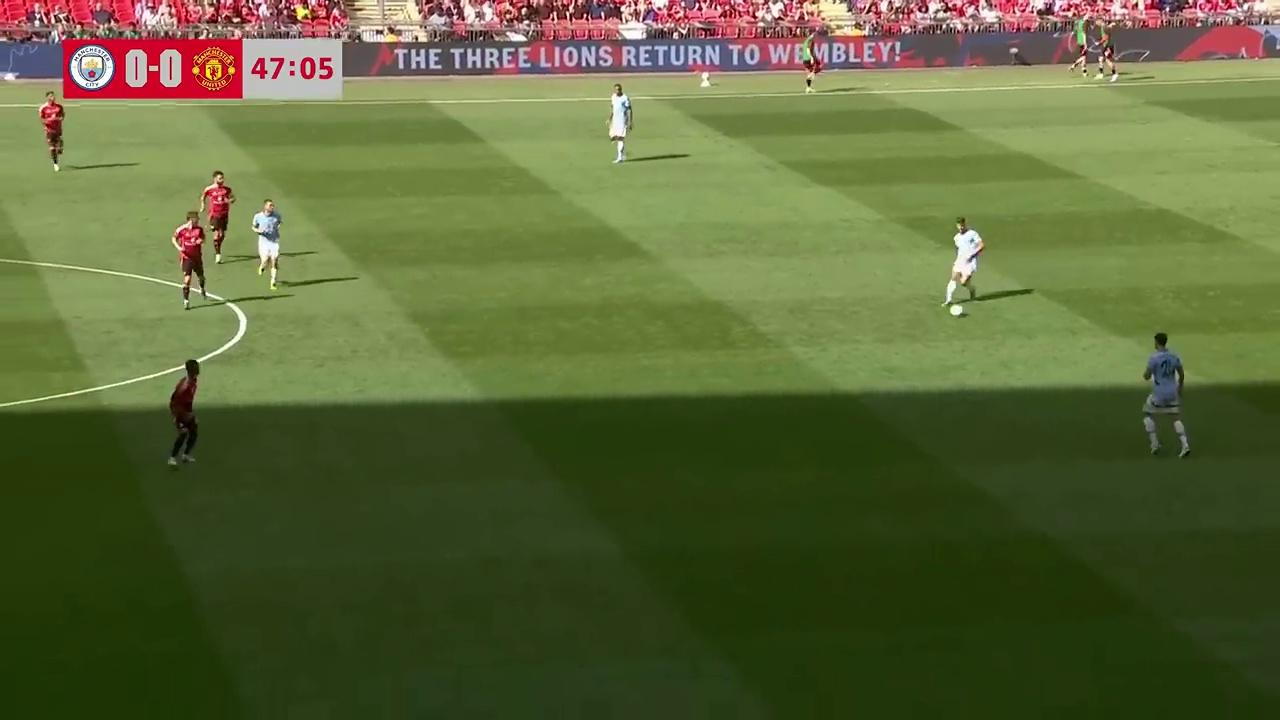ball: (949, 300, 965, 318)
player: (1141, 332, 1192, 457), (941, 216, 984, 314), (172, 213, 209, 310), (166, 360, 199, 466), (200, 169, 235, 261), (250, 198, 282, 290), (38, 92, 65, 172), (608, 83, 632, 163)
